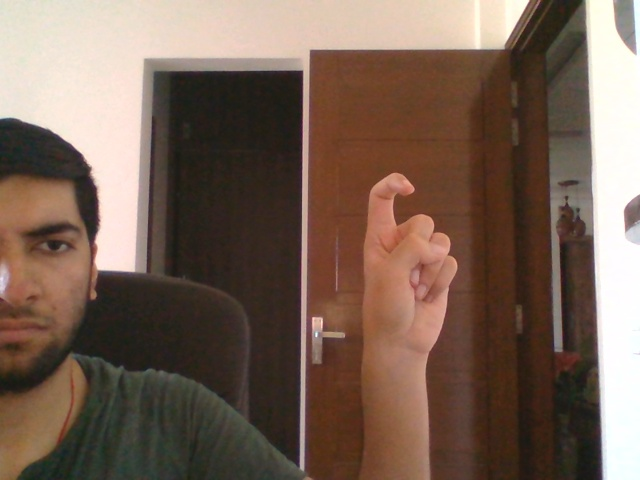LetterX: (360, 170, 460, 359)
